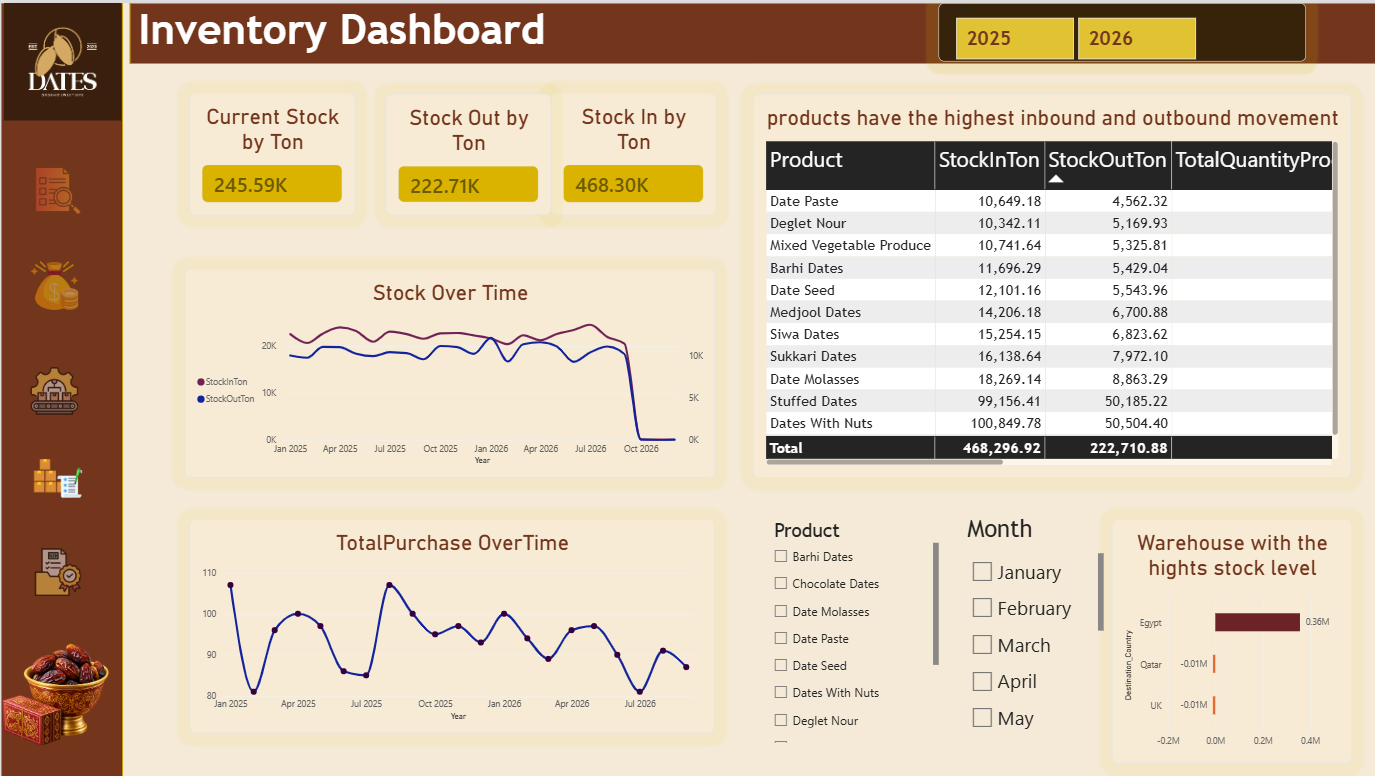

This screenshot's page, from the dashboard's own definition file:
{"tool":"powerbi","page":{"name":"Invernory","canvas":[1920,1080],"ordinal":3},"visuals":[{"type":"shape","box":[179,0,1741,85],"z":0},{"type":"shape","box":[0,0,170,1081],"z":1000},{"type":"image","box":[0,0,172,164],"z":2000},{"type":"textbox","title":"Inventory Dashboard","box":[191.7,1.7,741.7,116.7],"z":3000},{"type":"cardVisual","title":"Current Stock by Ton","fields":{"Data":["MyMeasures.CurrentStock"]},"box":[264,125,230,170],"z":4000},{"type":"cardVisual","title":"Stock In by Ton","fields":{"Data":["MyMeasures.StockIn"]},"box":[766.7,125,230,170],"z":5000},{"type":"lineChart","title":"Stock Over Time","fields":{"Category":["DateDim.Date.Variation.Date Hierarchy.Year","DateDim.Date.Variation.Date Hierarchy.Month"],"Y":["MyMeasures.StockIn"],"Y2":["MyMeasures.StockOut"]},"box":[256,372,740,290],"z":6000},{"type":"tableEx","title":"products have the highest inbound and outbound movement","fields":{"Values":["productDim.Product","MyMeasures.StockInTon","MyMeasures.StockOutTon","MyMeasures.TotalQuantityProduction","MyMeasures.TotalQyantitySale","MyMeasures.QuantityProductionIn","MyMeasures.RuternQuantity","MyMeasures.quantity_parches"]},"box":[1050,126.7,833.3,535],"z":7000},{"type":"cardVisual","title":"Stock Out by Ton","fields":{"Data":["MyMeasures.StockOut"]},"box":[536.7,126.7,230,168.3],"z":8000},{"type":"image","box":[0,844,150,235.7],"z":9000},{"type":"barChart","title":"Warehouse with the hights stock level","fields":{"Category":["shipDim.Destination_Country"],"Y":["MyMeasures.CurrentStock"]},"box":[1550,720,334,340],"z":10000},{"type":"lineChart","title":"TotalPurchase OverTime","fields":{"Category":["DateDim.Date.Variation.Date Hierarchy.Year","DateDim.Date.Variation.Date Hierarchy.Month"],"Y":["MyMeasures.TotalPurchase"]},"box":[264,720,732,298],"z":11000},{"type":"actionButton","box":[45.3,211,69,102],"z":12000},{"type":"actionButton","box":[40.1,343.6,69,102],"z":13000},{"type":"actionButton","box":[40.1,490.1,69,102],"z":14000},{"type":"actionButton","box":[45.3,743,69,102],"z":15000},{"type":"actionButton","box":[45.3,612.2,69,102],"z":16000},{"type":"slicer","title":"Year","fields":{"Values":["DateDim.Date.Variation.Date Hierarchy.Year"]},"box":[1308.1,0,512.8,82],"z":17000},{"type":"slicer","title":"Month","fields":{"Values":["DateDim.Date.Variation.Date Hierarchy.Month"]},"box":[1348.3,713.4,190,312],"z":18000},{"type":"slicer","fields":{"Values":["productDim.Product"]},"box":[1070.9,720.4,237.2,312.2],"z":19000}]}

Visuals, with their boxes in screenshot pixels (x1, y1, x2, y2), scaled from the page's 1920x1080 canvas onto the 1375x776 screenshot:
shape: <region>128, 0, 1374, 61</region>
shape: <region>0, 0, 122, 775</region>
image: <region>0, 0, 123, 118</region>
"Inventory Dashboard" textbox: <region>137, 1, 668, 85</region>
"Current Stock by Ton" cardVisual: <region>189, 90, 354, 212</region>
"Stock In by Ton" cardVisual: <region>549, 90, 714, 212</region>
"Stock Over Time" lineChart: <region>183, 267, 713, 476</region>
"products have the highest inbound and outbound movement" tableEx: <region>752, 91, 1349, 475</region>
"Stock Out by Ton" cardVisual: <region>384, 91, 549, 212</region>
image: <region>0, 606, 107, 775</region>
"Warehouse with the hights stock level" barChart: <region>1110, 517, 1349, 762</region>
"TotalPurchase OverTime" lineChart: <region>189, 517, 713, 731</region>
actionButton: <region>32, 152, 82, 225</region>
actionButton: <region>29, 247, 78, 320</region>
actionButton: <region>29, 352, 78, 425</region>
actionButton: <region>32, 534, 82, 607</region>
actionButton: <region>32, 440, 82, 513</region>
"Year" slicer: <region>937, 0, 1304, 59</region>
"Month" slicer: <region>966, 513, 1102, 737</region>
slicer - productDim.Product: <region>767, 518, 937, 742</region>
